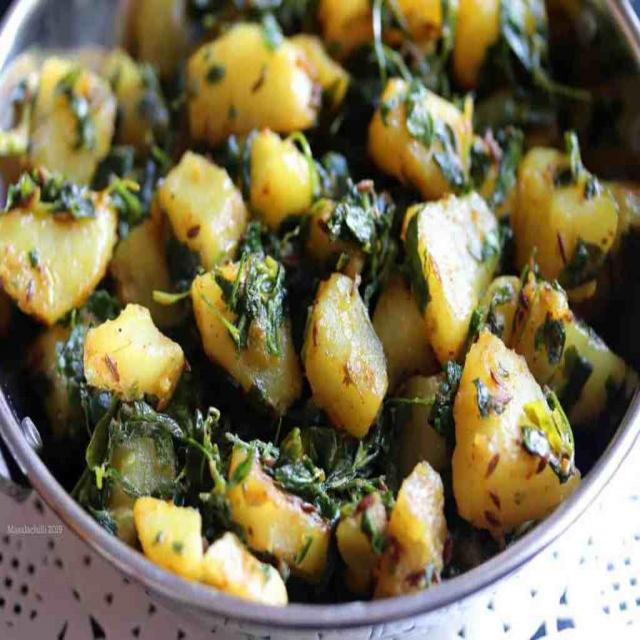Aloo Methi: (1, 0, 639, 589)
